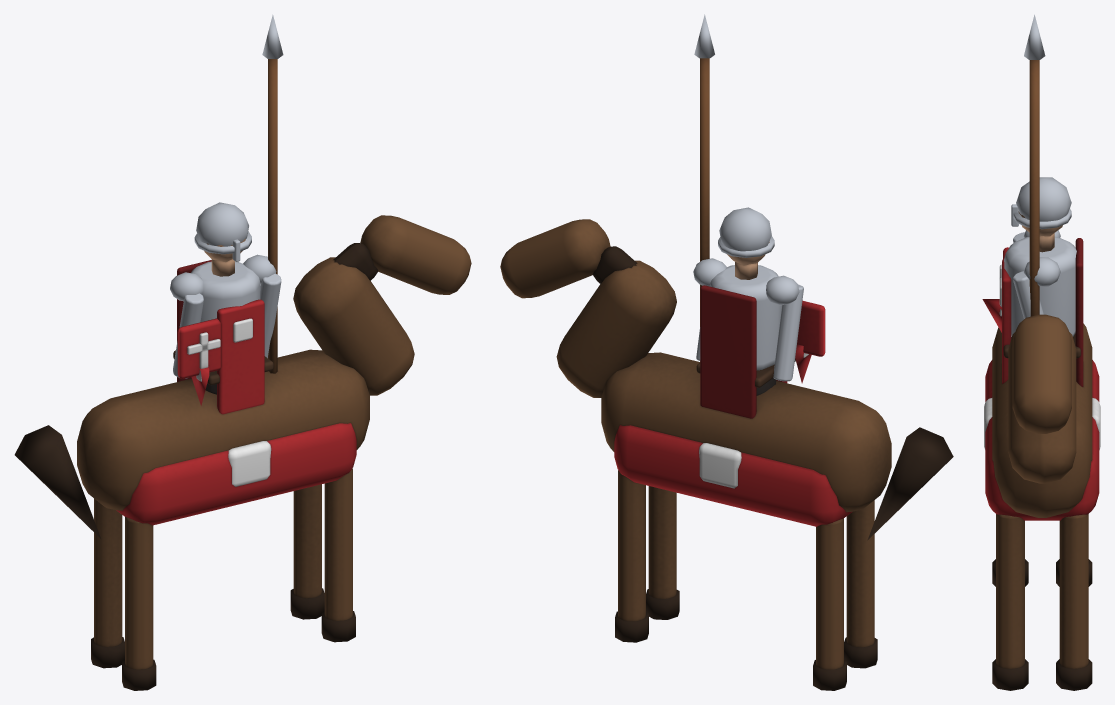
The model's file is knight_red.glb.
3 views of the same model, side by side, from view 1: azimuth 30°, elevation 25°; view 2: azimuth 150°, elevation 25°; view 3: azimuth 270°, elevation 25° (orthographic). The views are drawn at different scales.
Parts seen in each view (by area): view 1: horse_body; view 2: horse_body; view 3: horse_body.
Part boxes in pixels (x1=…): horse_body: x1=14, y1=14, x2=471, y2=690; horse_body: x1=500, y1=14, x2=953, y2=690; horse_body: x1=982, y1=14, x2=1100, y2=690.
Bounding box in the file's own units: 0.5797 × 0.7785 × 0.1299.
Materials: 2 (1 with a texture image).
